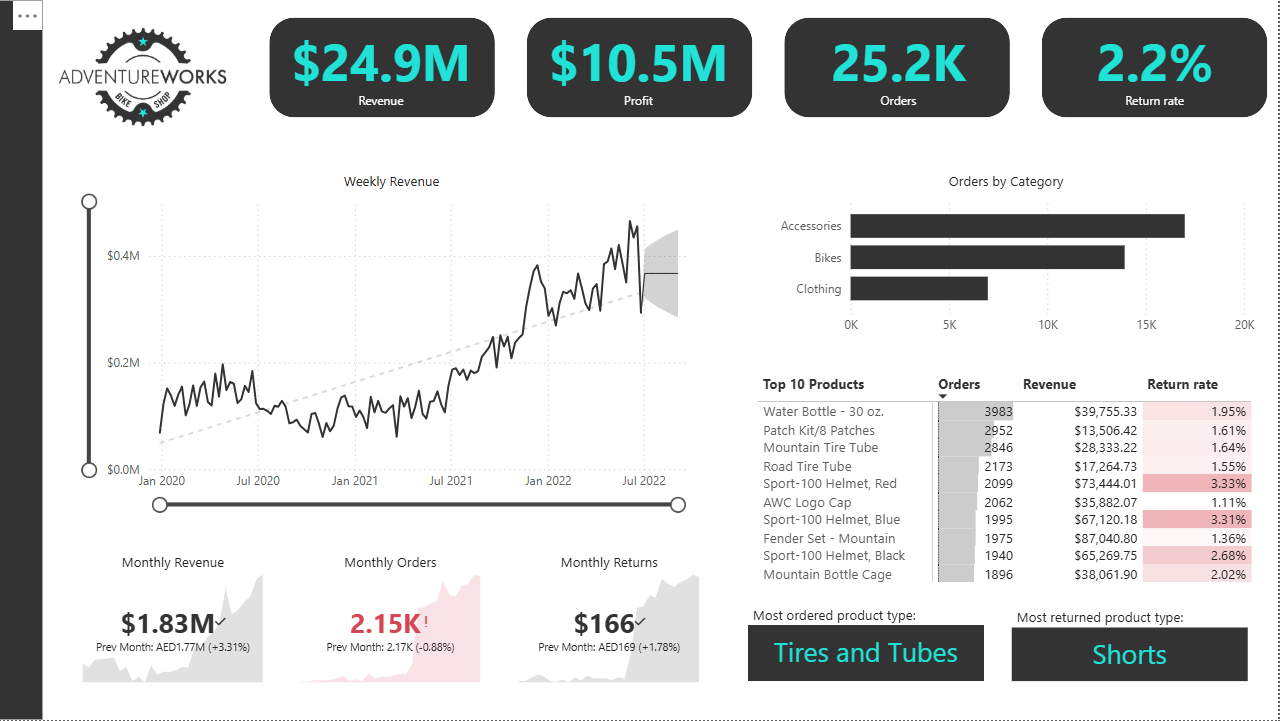

What the dashboard file says about the page in this screenshot:
{"tool":"powerbi","page":{"name":"Exec Dashboard","canvas":[1280,720],"ordinal":0},"visuals":[{"type":"image","title":"Company Logo","box":[37.1,0,215.7,154.3],"z":0},{"type":"shape","box":[271.4,17.5,225.7,100],"z":0,"group":"g1"},{"type":"shape","title":"Left nav bg","box":[0,0,45,720],"z":1000},{"type":"shape","box":[529,17.5,225.7,100],"z":1000,"group":"g1"},{"type":"card","fields":{"Values":["Measure Table.Total Orders"]},"box":[517.5,0,208.8,95],"z":2000},{"type":"group","id":"g1","title":"KPI bg","box":[271.4,17.5,998.6,100],"z":2000,"group":"g2"},{"type":"shape","box":[786.6,17.5,225.7,100],"z":2000,"group":"g1"},{"type":"group","id":"g2","title":"KPI's","box":[271.4,17.5,998.6,100],"z":3000},{"type":"shape","box":[1044.3,17.5,225.7,100],"z":3000,"group":"g1"},{"type":"card","fields":{"Values":["Measure Table.Total Revenue"]},"box":[278.7,20,208.8,95],"z":3000,"group":"g3"},{"type":"card","fields":{"Values":["Measure Table.Total Profit"]},"box":[536.2,20,208.8,95],"z":4000,"group":"g3"},{"type":"lineChart","title":"Weekly Revenue","fields":{"Category":["Calendar Lookup.Start of week"],"Y":["Measure Table.Total Revenue"]},"box":[79.6,170.7,627.2,344.2],"z":4000},{"type":"card","fields":{"Values":["Measure Table.Total Orders"]},"box":[796.2,20,208.8,95],"z":5000,"group":"g3"},{"type":"kpi","title":"Monthly Revenue","fields":{"Indicator":["Measure Table.Total Revenue"],"TrendLine":["Calendar Lookup.Start of month"],"Goal":["Measure Table.Previous Month Revenue"]},"box":[79.6,552,190,135],"z":5000},{"type":"card","fields":{"Values":["Measure Table.Return rate"]},"box":[1052.5,20,208.8,95],"z":6000,"group":"g3"},{"type":"kpi","title":"Monthly Orders","fields":{"TrendLine":["Calendar Lookup.Start of month"],"Indicator":["Measure Table.Total Orders"],"Goal":["Measure Table.Previous Month Orders"]},"box":[297.7,552,190,135],"z":6000},{"type":"group","id":"g3","title":"KPI Values","box":[278.7,20,982.5,95],"z":6001,"group":"g2"},{"type":"kpi","title":"Monthly Returns","fields":{"TrendLine":["Calendar Lookup.Start of month"],"Goal":["Measure Table.Previous Month Returns"],"Indicator":["Measure Table.Total returns"]},"box":[515.8,552,190,135],"z":7000},{"type":"barChart","title":"Orders by Category","fields":{"Category":["Product Categories Lookup.CategoryName"],"Y":["Measure Table.Total Orders"]},"box":[755.2,170.7,506.3,172.1],"z":8000},{"type":"pivotTable","fields":{"Rows":["Product Lookup.ProductName"],"Values":["Measure Table.Total Orders","Measure Table.Total Revenue","Measure Table.Return rate"]},"box":[755.2,369.8,512,220.4],"z":9000},{"type":"card","fields":{"Values":["Min(Product Subcategories Lookup.SubcategoryName)"]},"box":[749.6,625.1,236,56.3],"z":10000},{"type":"textbox","box":[749.6,600.6,195.7,33],"z":11000},{"type":"card","fields":{"Values":["Min(Product Subcategories Lookup.SubcategoryName)"]},"box":[1013.7,627.5,236,53.8],"z":12000},{"type":"textbox","box":[1013.3,602.6,195.7,33],"z":13000}]}

Visuals, with their boxes on the page's 1280x720 design canvas (x1, y1, x2, y2). These are canvas units, not pixel positions in the 1280x721 screenshot, which may show the page scaled, cropped or inside an application window:
"Company Logo" image: pyautogui.locateOnScreen(37, 0, 253, 154)
shape: pyautogui.locateOnScreen(271, 18, 497, 118)
"Left nav bg" shape: pyautogui.locateOnScreen(0, 0, 45, 720)
shape: pyautogui.locateOnScreen(529, 18, 755, 118)
card - Measure Table.Total Orders: pyautogui.locateOnScreen(518, 0, 726, 95)
"KPI bg" group: pyautogui.locateOnScreen(271, 18, 1270, 118)
shape: pyautogui.locateOnScreen(787, 18, 1012, 118)
"KPI's" group: pyautogui.locateOnScreen(271, 18, 1270, 118)
shape: pyautogui.locateOnScreen(1044, 18, 1270, 118)
card - Measure Table.Total Revenue: pyautogui.locateOnScreen(279, 20, 488, 115)
card - Measure Table.Total Profit: pyautogui.locateOnScreen(536, 20, 745, 115)
"Weekly Revenue" lineChart: pyautogui.locateOnScreen(80, 171, 707, 515)
card - Measure Table.Total Orders: pyautogui.locateOnScreen(796, 20, 1005, 115)
"Monthly Revenue" kpi: pyautogui.locateOnScreen(80, 552, 270, 687)
card - Measure Table.Return rate: pyautogui.locateOnScreen(1052, 20, 1261, 115)
"Monthly Orders" kpi: pyautogui.locateOnScreen(298, 552, 488, 687)
"KPI Values" group: pyautogui.locateOnScreen(279, 20, 1261, 115)
"Monthly Returns" kpi: pyautogui.locateOnScreen(516, 552, 706, 687)
"Orders by Category" barChart: pyautogui.locateOnScreen(755, 171, 1262, 343)
pivotTable - Product Lookup.ProductName x Measure Table.Total Orders: pyautogui.locateOnScreen(755, 370, 1267, 590)
card - Min(Product Subcategories Lookup.SubcategoryName): pyautogui.locateOnScreen(750, 625, 986, 681)
textbox: pyautogui.locateOnScreen(750, 601, 945, 634)
card - Min(Product Subcategories Lookup.SubcategoryName): pyautogui.locateOnScreen(1014, 628, 1250, 681)
textbox: pyautogui.locateOnScreen(1013, 603, 1209, 636)
